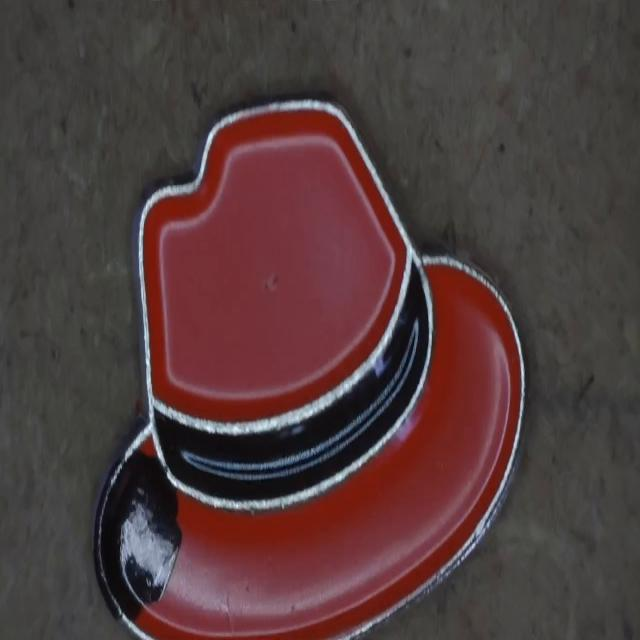Hatband: (154, 256, 430, 507)
Paint_Leak: (95, 449, 181, 626)
RedHatPin: (95, 100, 524, 638)
